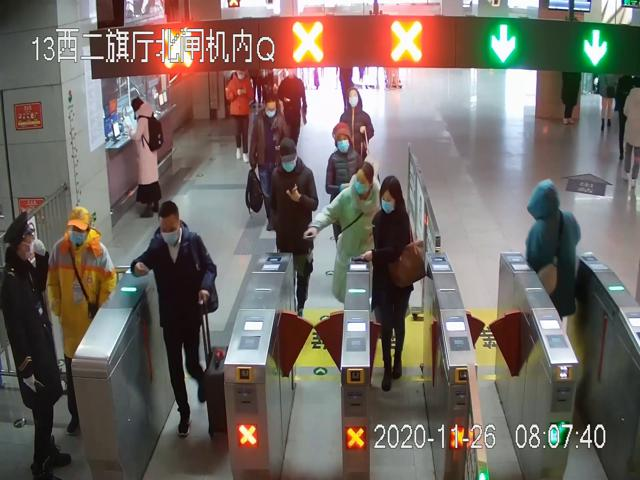person: (132, 201, 218, 434), (0, 211, 71, 480), (49, 205, 117, 439), (361, 175, 423, 390), (271, 139, 320, 319), (326, 160, 382, 295), (248, 99, 290, 232), (129, 97, 165, 219), (326, 122, 362, 243), (225, 68, 253, 163)
